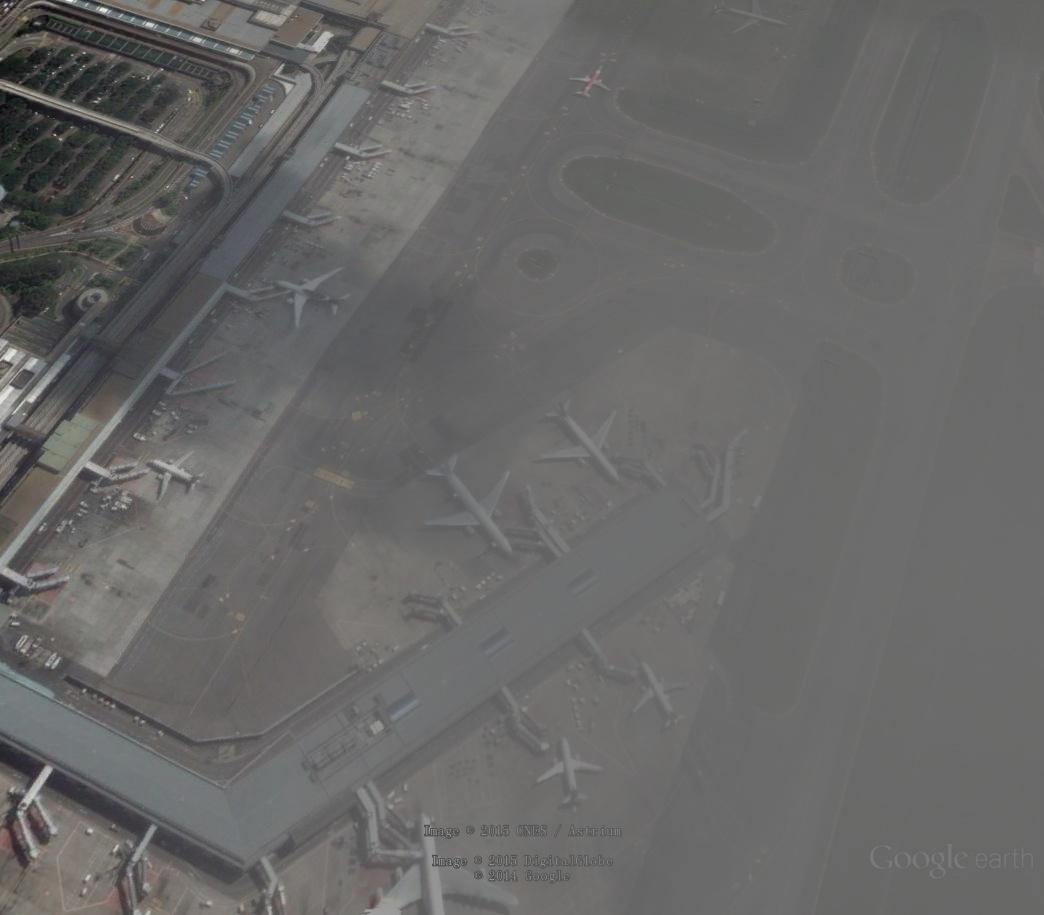aircraft: (354, 811, 521, 915), (411, 450, 517, 561), (532, 396, 626, 488), (527, 735, 606, 811), (270, 266, 356, 332), (627, 658, 693, 731), (143, 450, 211, 504), (708, 2, 790, 37), (567, 63, 613, 100)
